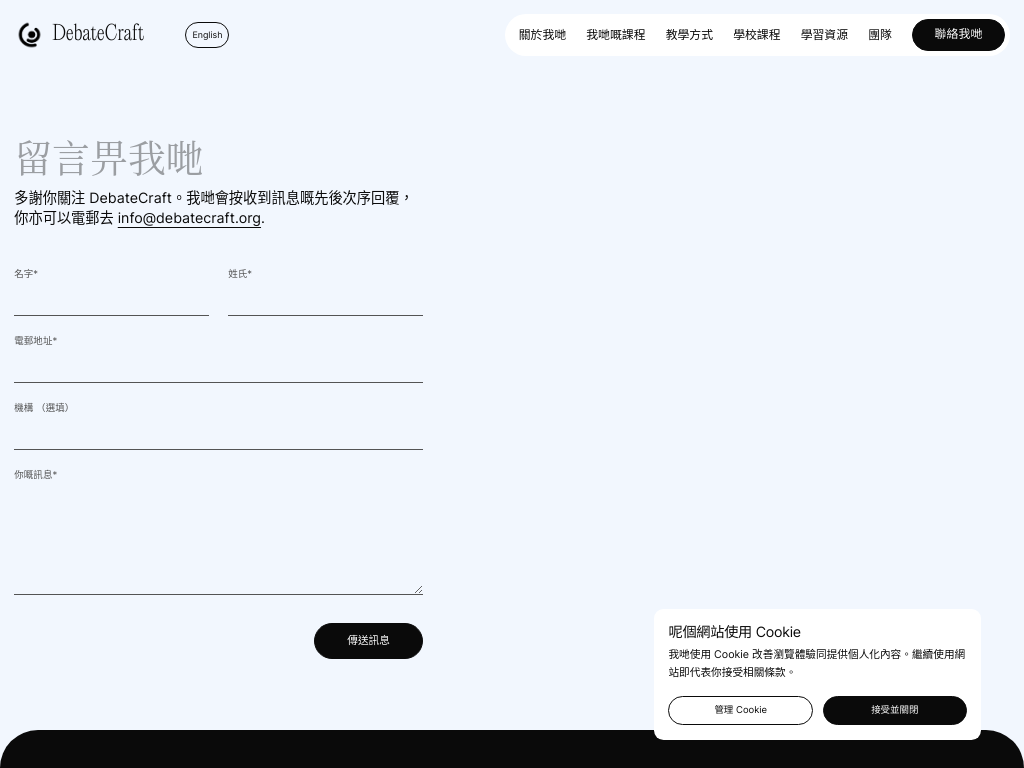
Cantonese contact uses translated field and failure feedback with the original form contract
Type "Ada" into the field labelled "名字" at point(112, 300), box [14,284,209,316]
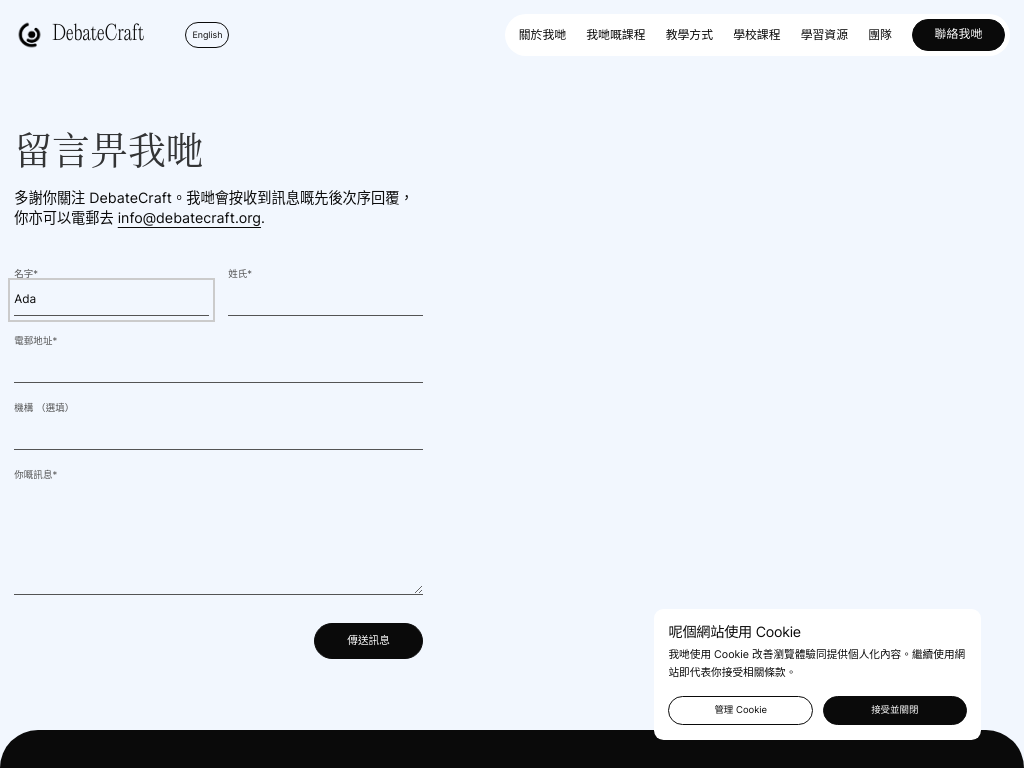
Type "Chan" into the field labelled "姓氏" at point(326, 300), box [228,284,423,316]
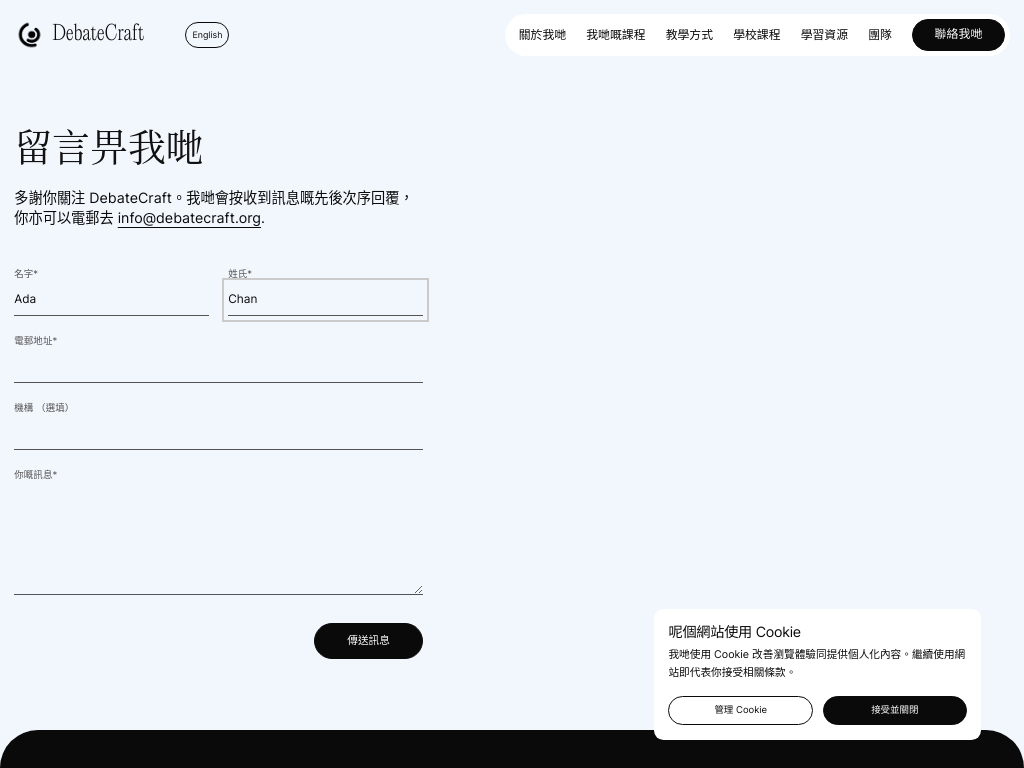
Type "ada@example.com" into the field labelled "電郵地址" at point(219, 367), box [14,351,423,383]
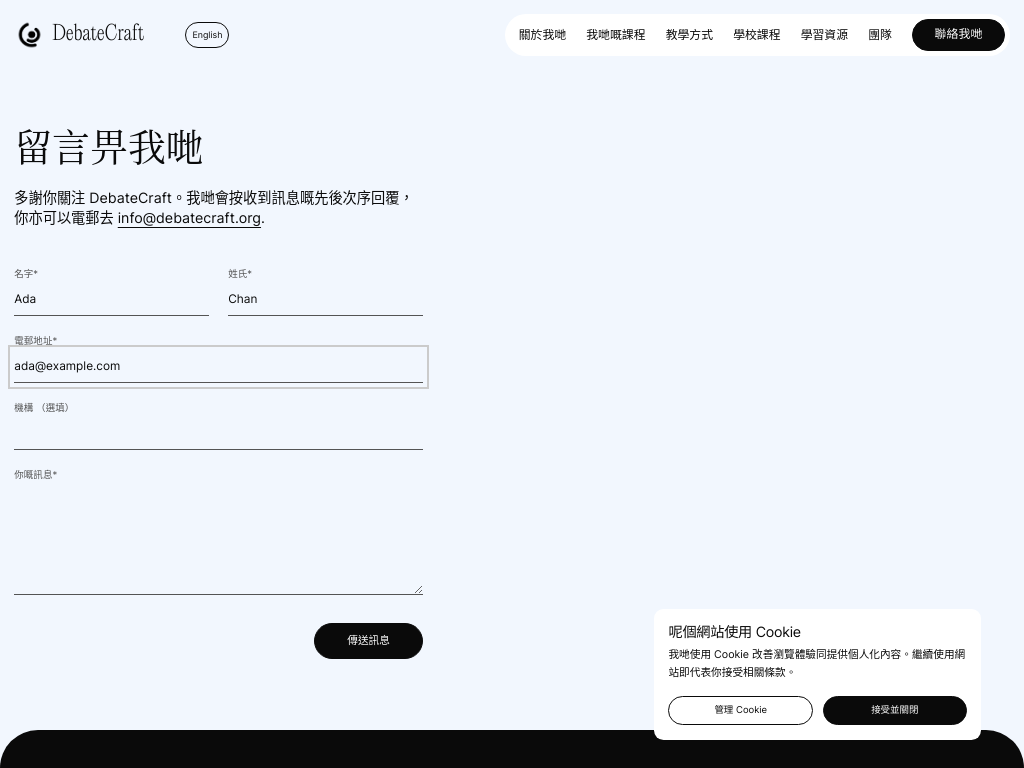
Type "測試內容" into the text box labelled "你嘅訊息" at point(219, 540), box [14,484,423,595]
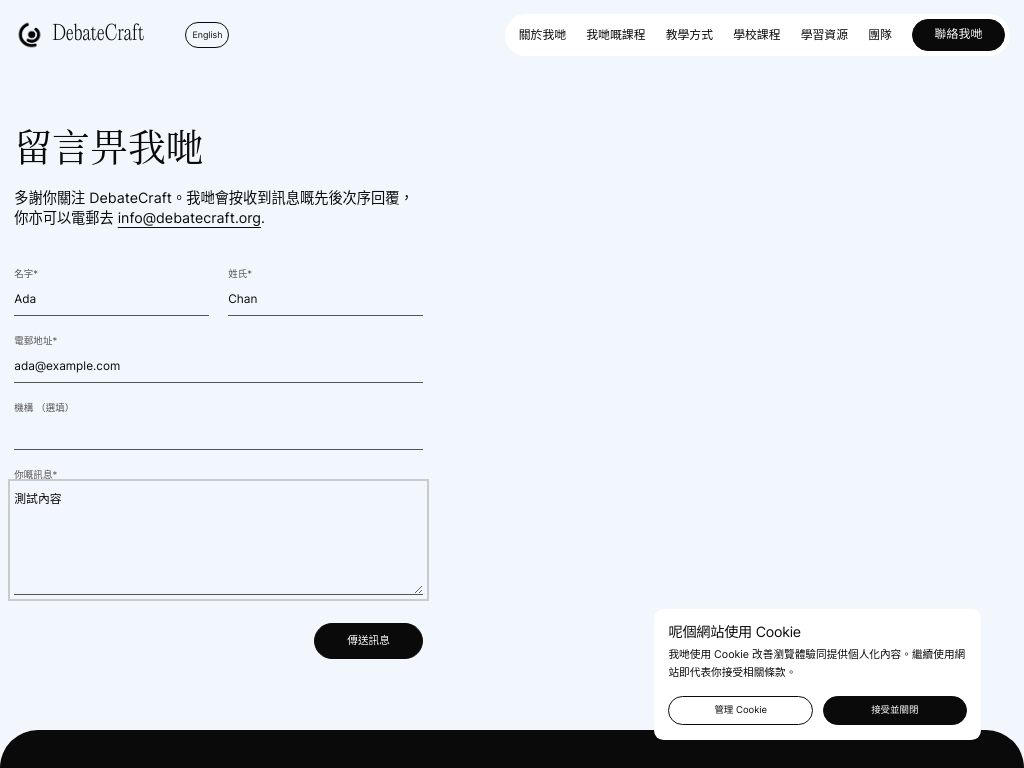
Click the button "傳送訊息" at point(369, 641), box [314,624,423,659]
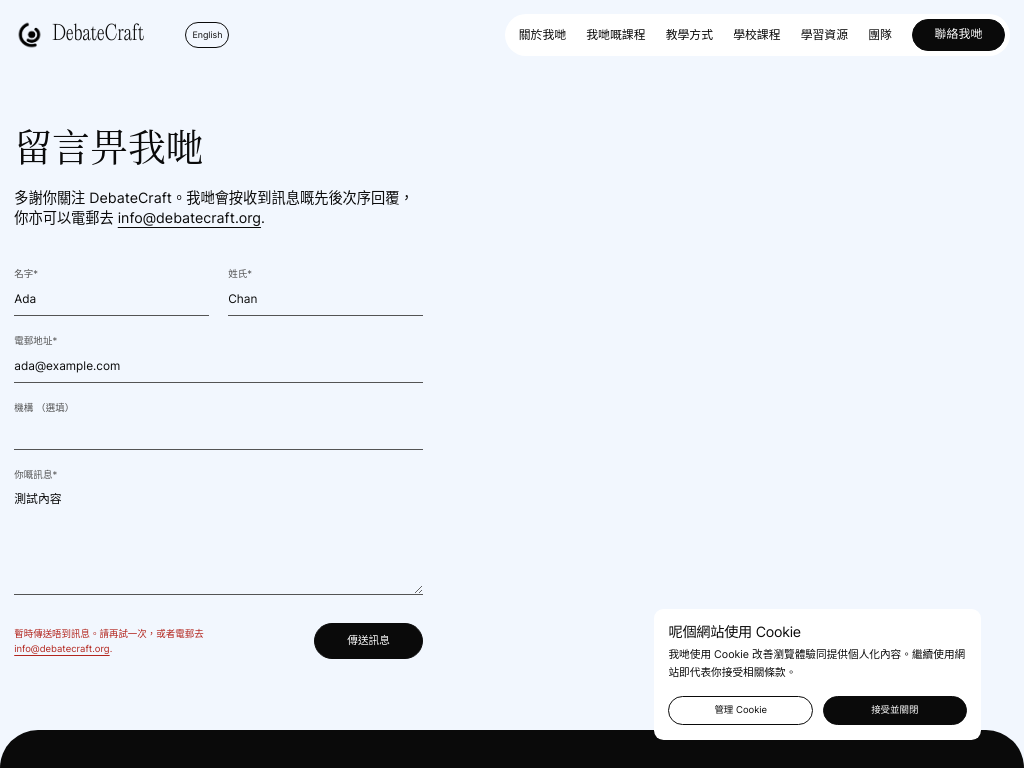
Expected: the message shows "傳送唔到", [14,628,204,639]
